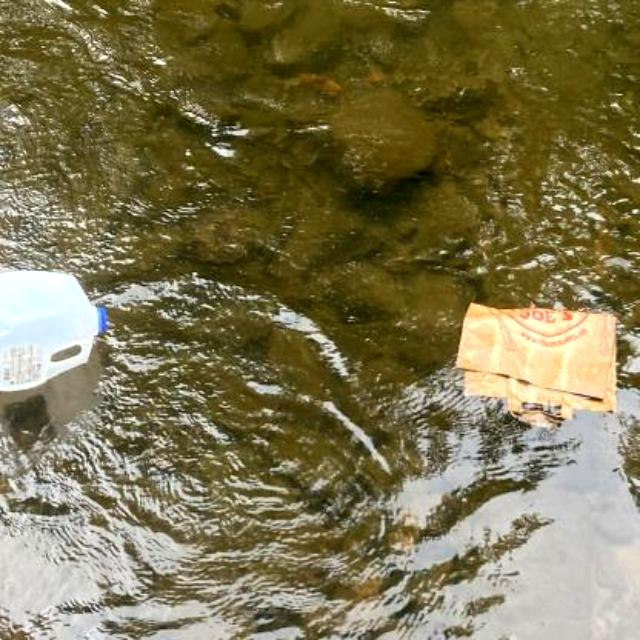Paper: (453, 294, 625, 436)
Plastic: (0, 261, 112, 405)
